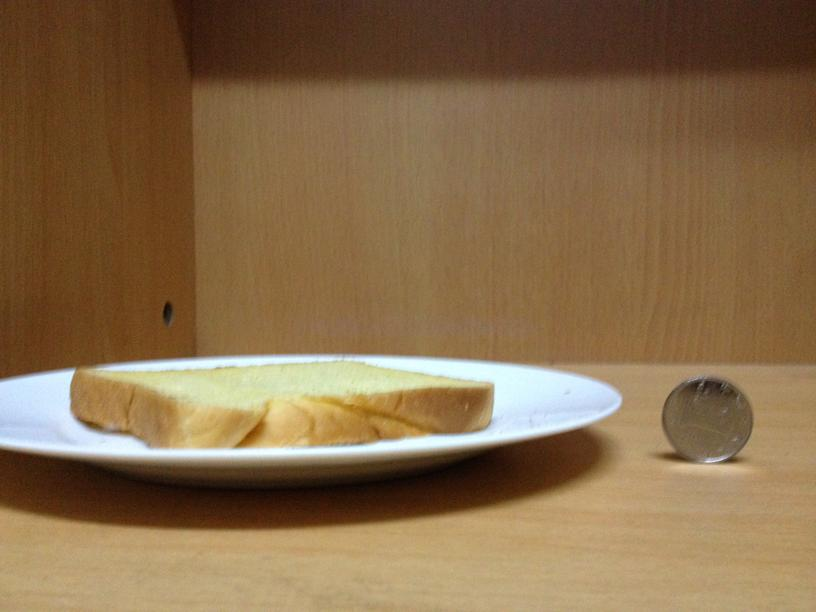bread: (58, 358, 493, 446)
coin: (662, 374, 753, 462)
